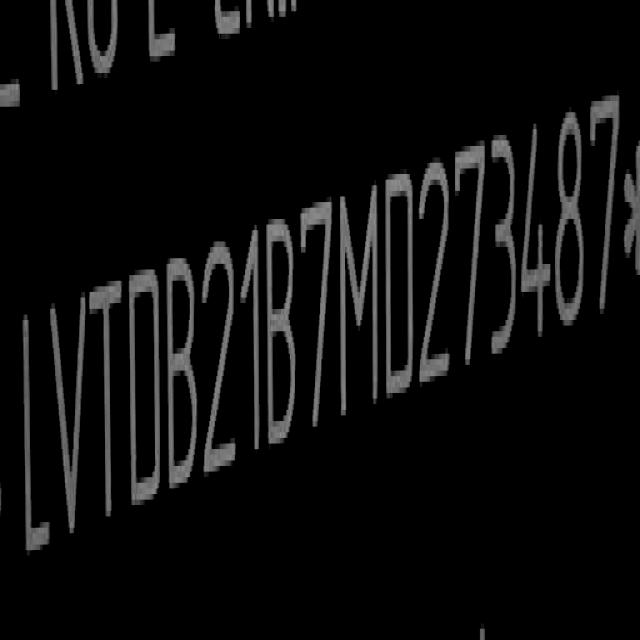1: (239, 223, 264, 470)
2: (202, 240, 240, 485), (417, 147, 454, 397)
3: (487, 125, 519, 368)
4: (520, 117, 553, 350)
7: (301, 191, 338, 446), (453, 134, 488, 380), (592, 87, 624, 324)
8: (554, 103, 587, 336)
B: (264, 209, 298, 453), (166, 253, 199, 495)
D: (128, 260, 166, 506), (384, 162, 418, 408)
L: (17, 297, 53, 566)
M: (337, 178, 384, 427)
T: (91, 269, 126, 536)
V: (49, 288, 89, 556)
